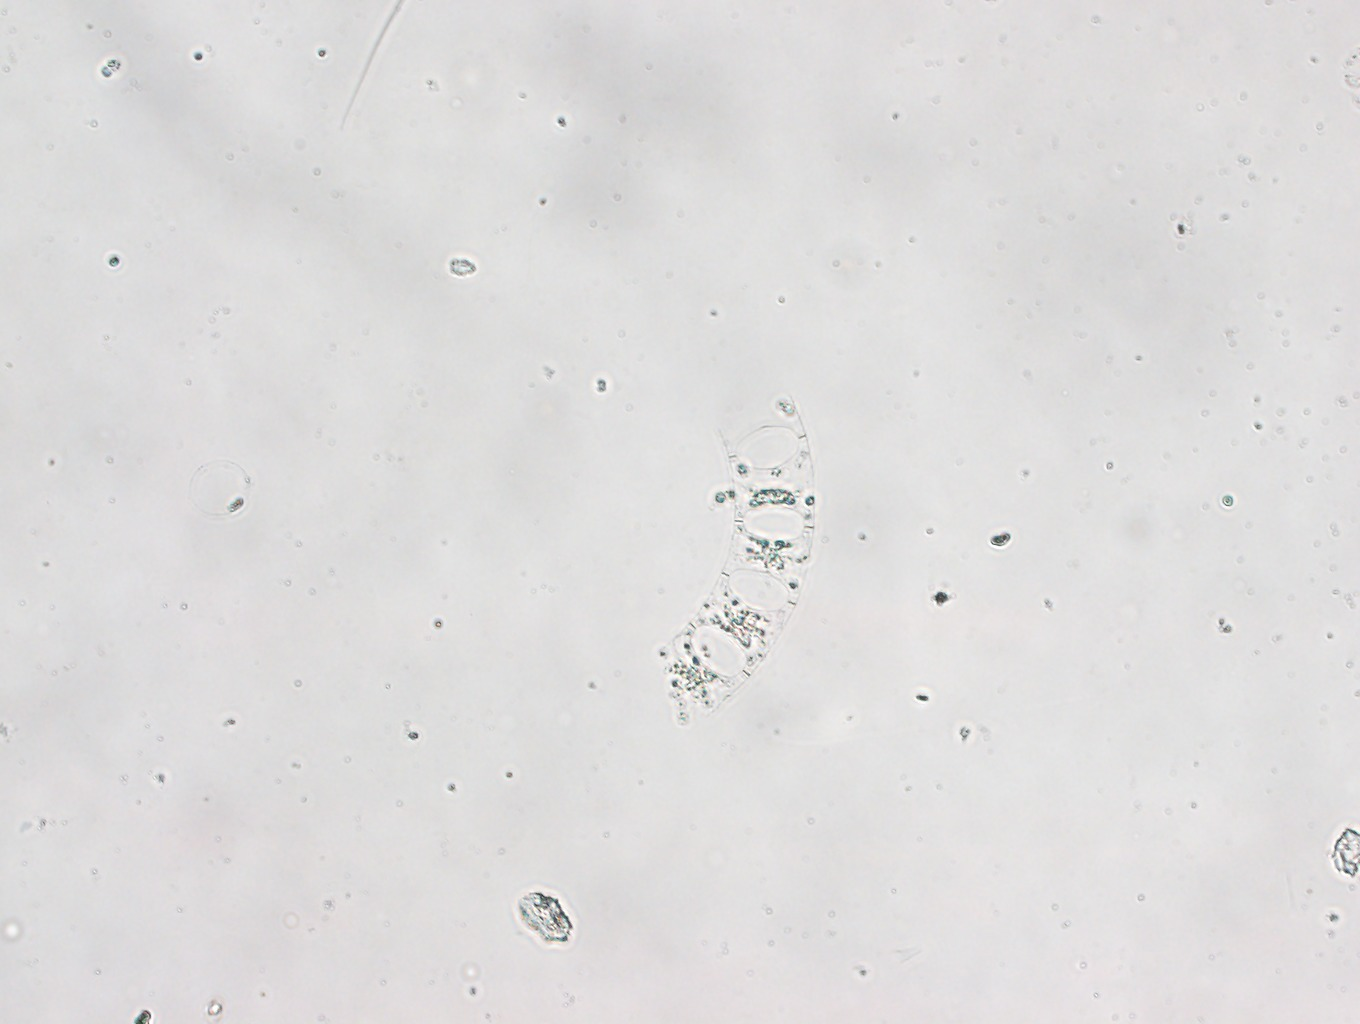eucampia: (661, 395, 815, 727)
